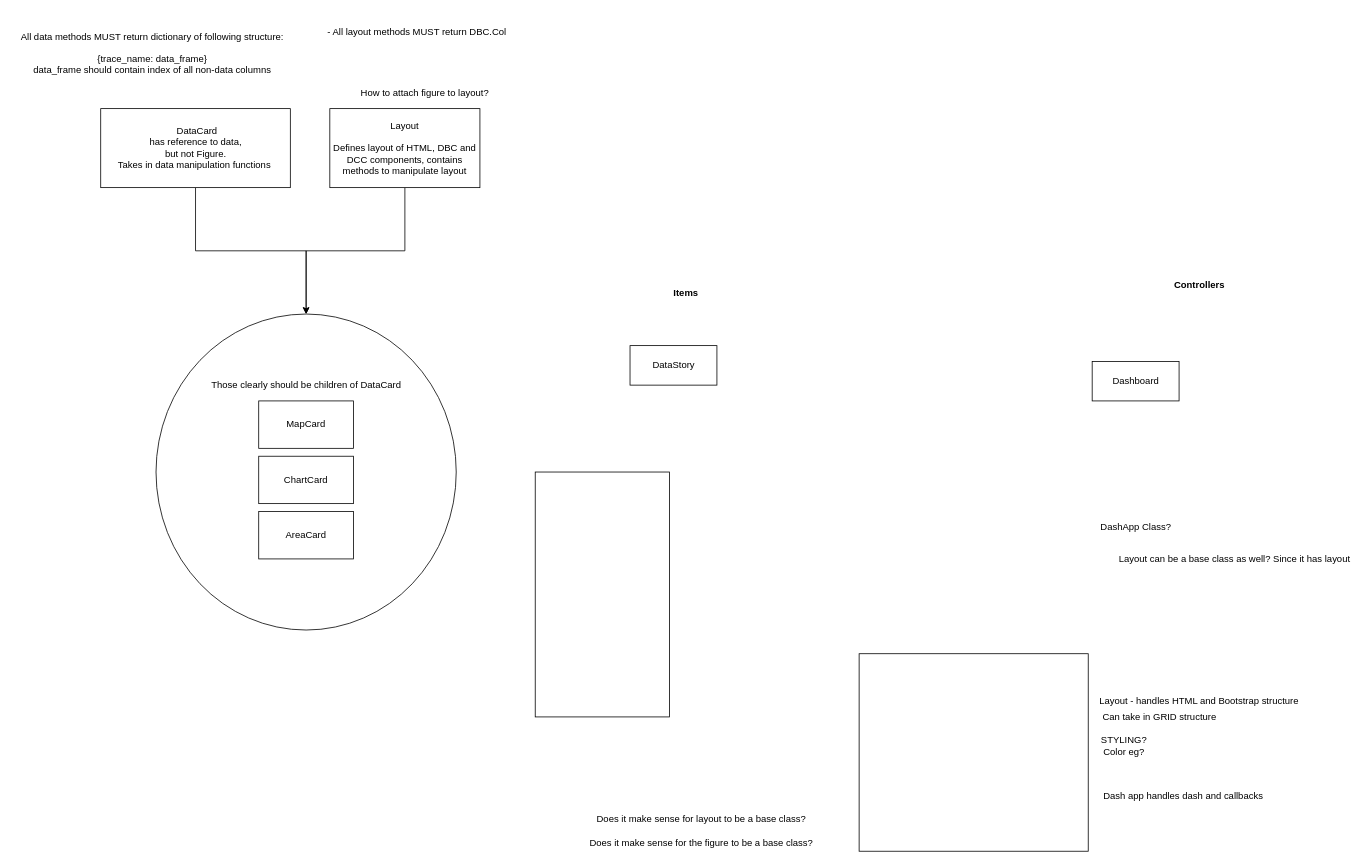
Image size: 1370x865. Some labels were removed from this diagram. The box of each missing label's shape, as (x1, y1, x2, y2) in pixels:
DataCard layout insert right? insert bottom? figure points: (534, 471, 670, 717)
Figure family of methods: (155, 313, 456, 630)
Object:DataCard field1 = value1 field2 = value2 field3 = value3: (858, 653, 1088, 851)
